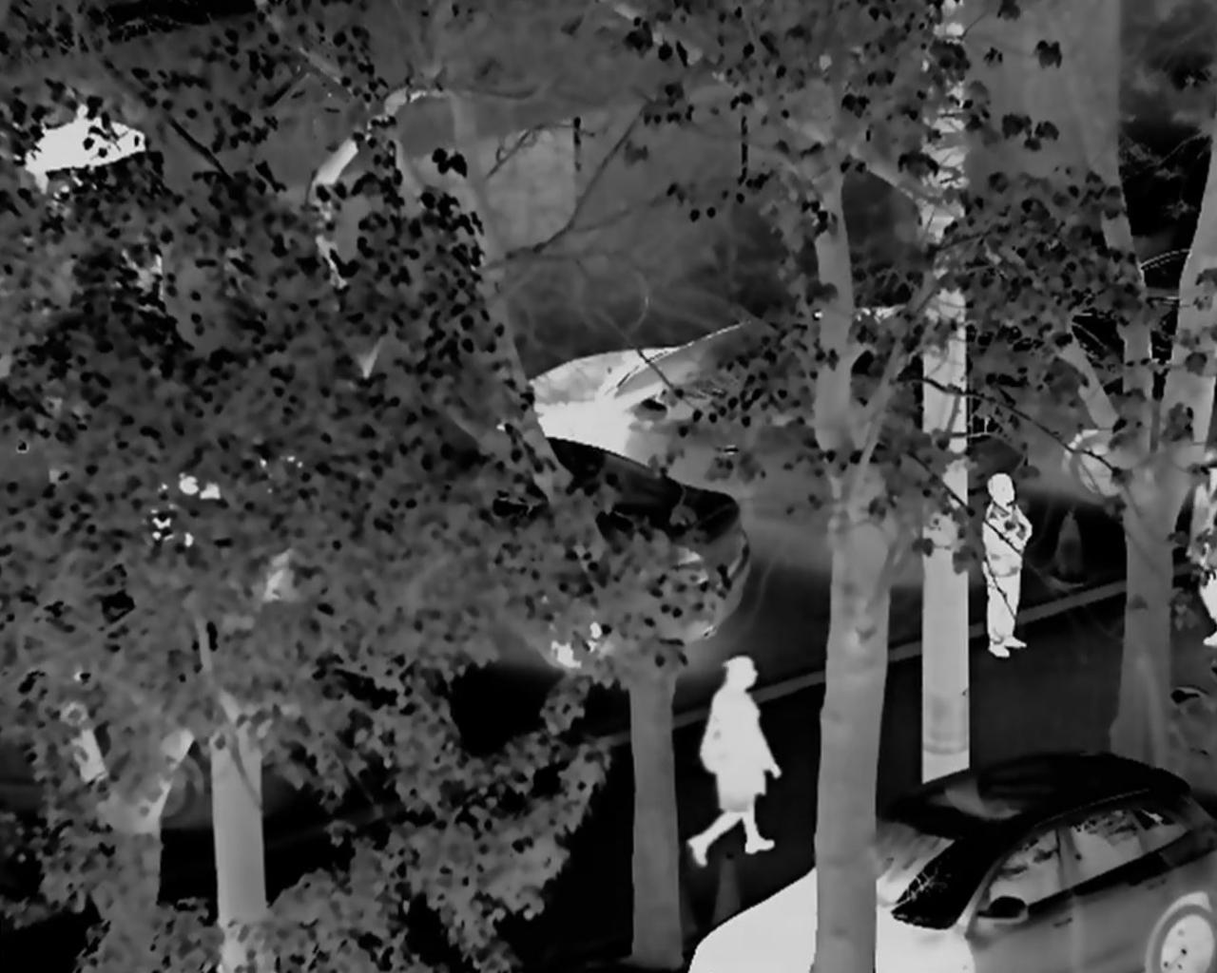person: (685, 653, 786, 866), (975, 467, 1034, 658)
